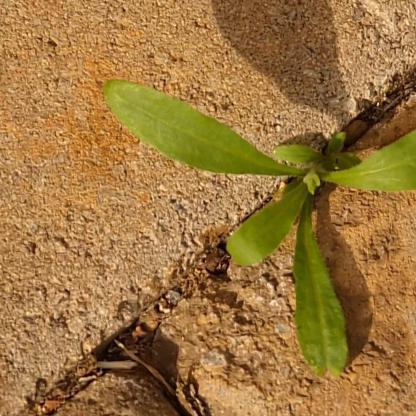Weeds: (104, 76, 415, 379)
